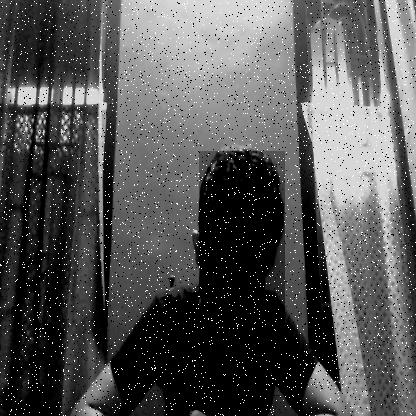Distracted: (199, 152, 285, 352)
